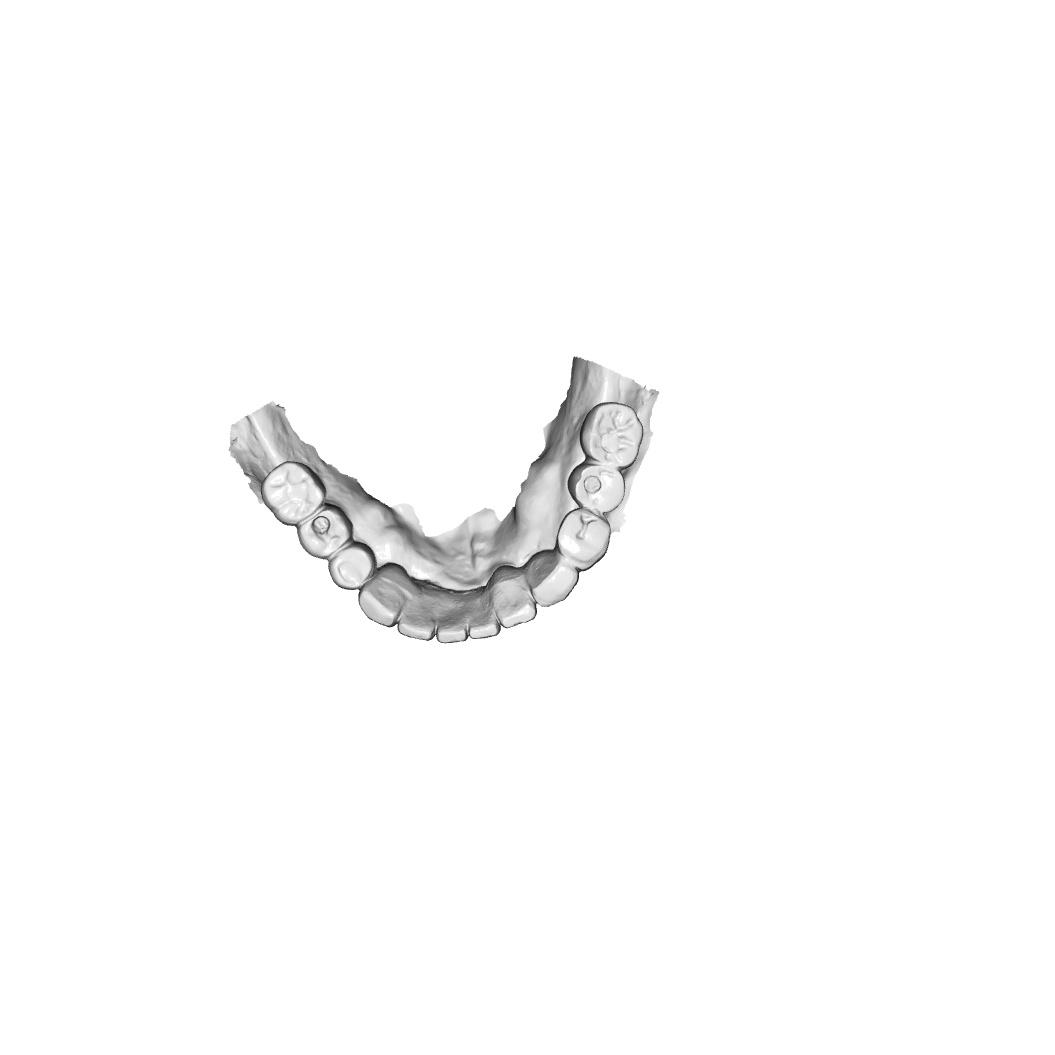canine: (524, 549, 580, 608), (357, 572, 406, 628)
incisor: (491, 574, 538, 630), (397, 597, 440, 642), (434, 596, 471, 644), (469, 592, 502, 641)
molar: (259, 459, 328, 527), (579, 401, 645, 467)
premolar: (556, 507, 612, 571), (296, 504, 354, 560), (567, 463, 627, 513), (328, 540, 377, 591)
